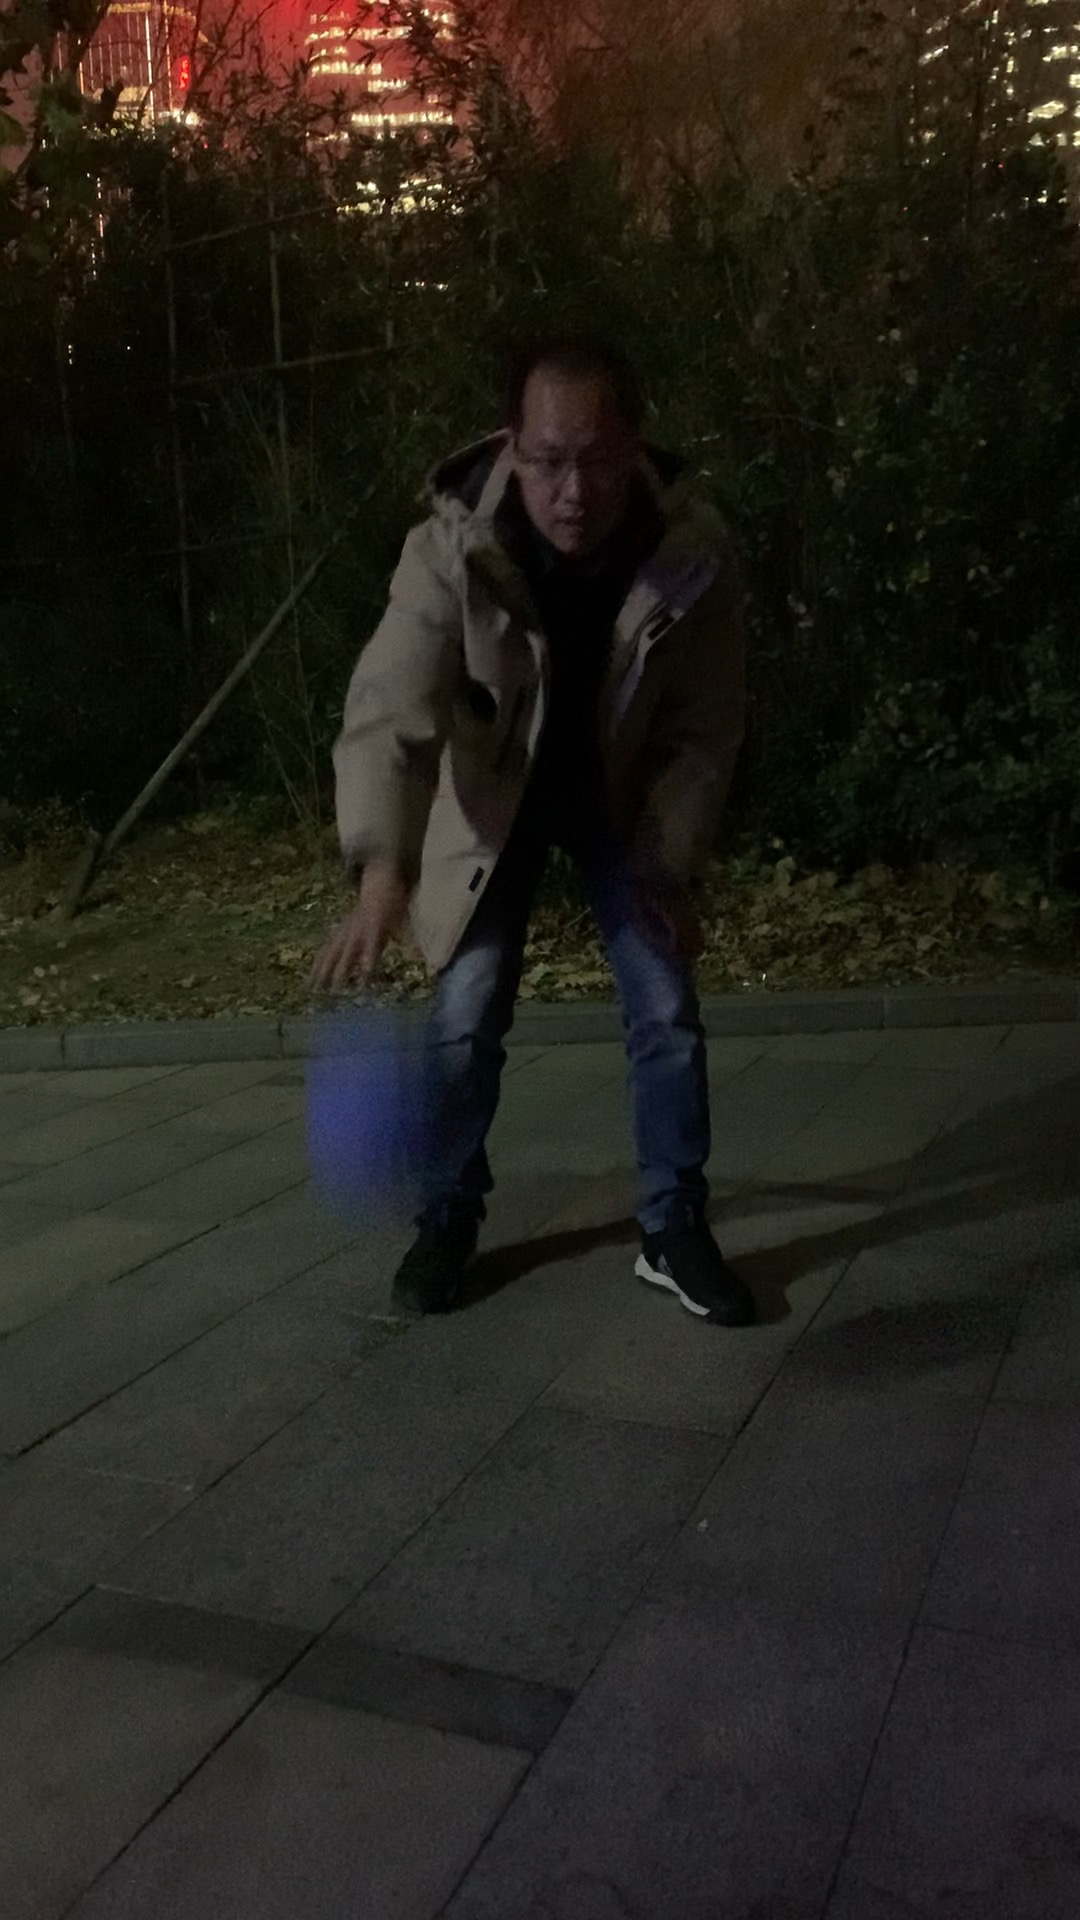ball: (301, 1035, 483, 1204)
